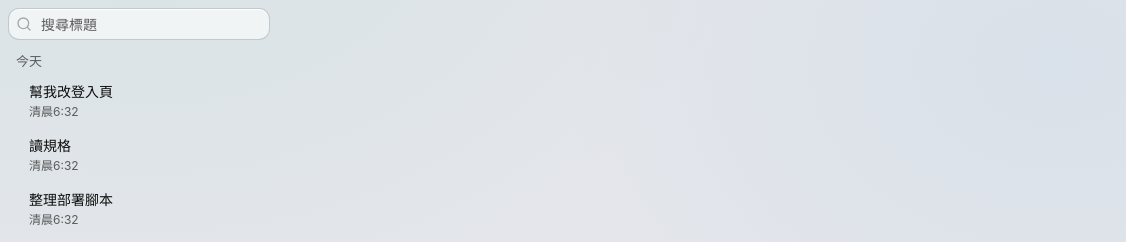
it: 有開內容搜尋 › 兩邊都沒有：講一聲，帶搜尋字
Type "沒這個字" into the search field named "搜尋以前的會話".
click(139, 24); type("沒這個字")  # box [8,8,270,40]
Wait 250 ms
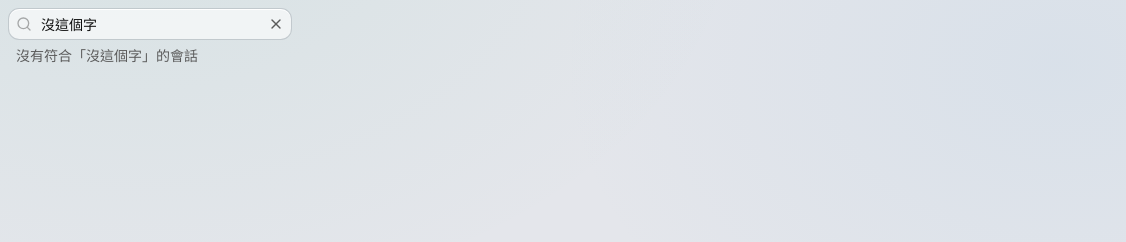
expect the message reads "沒有符合「沒這個字」的會話": met, box [16,47,198,64]
